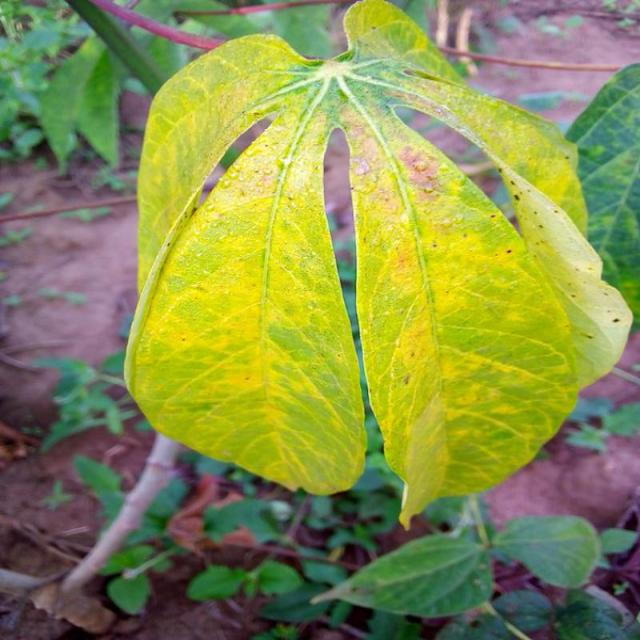cassava leaf: (123, 0, 634, 529)
